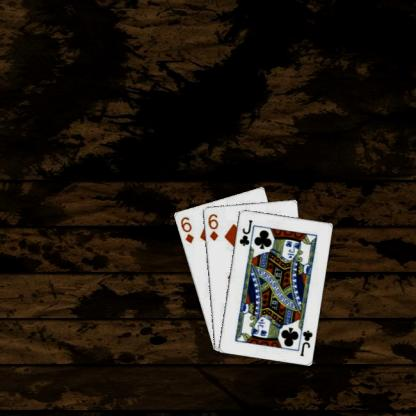6D: (177, 214, 195, 244), (205, 210, 219, 242)
JC: (236, 217, 254, 247), (297, 327, 314, 357)
